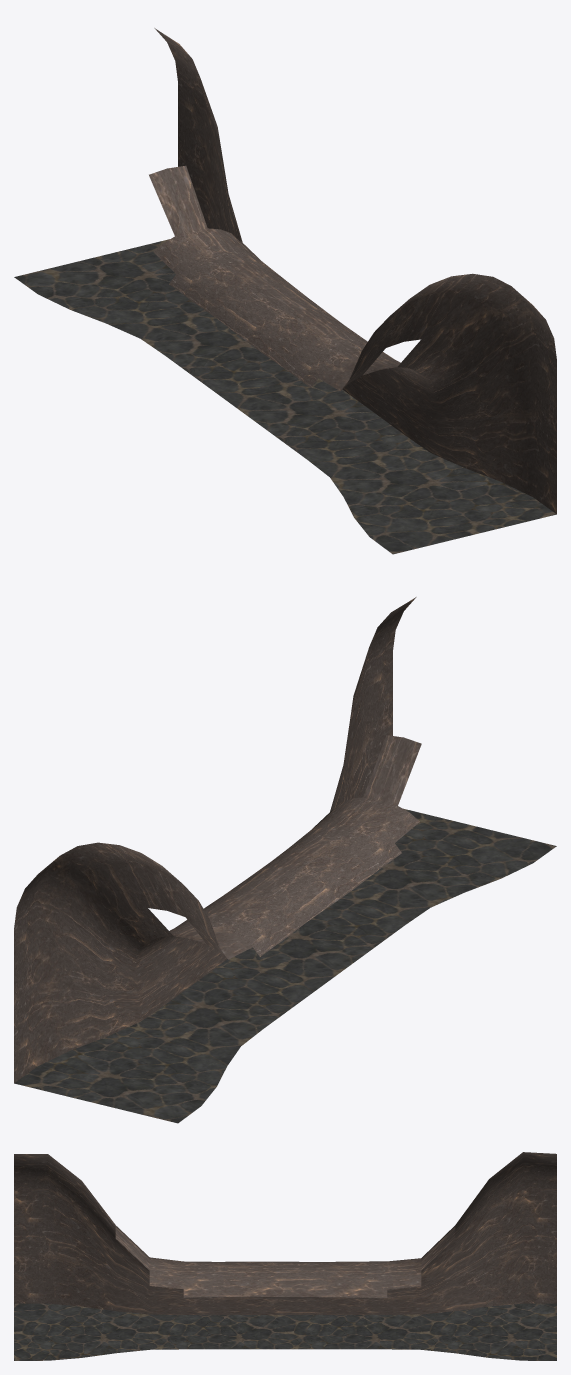
The model's file is hall-crawl.bd499966.gltf.
3 renders of one model, top to bottom at view 1: azimuth 30°, elevation 25°; view 2: azimuth 150°, elevation 25°; view 3: azimuth 270°, elevation 25°, orthographic. The views are drawn at different scales.
Parts seen in each view (by area): view 1: hall-crawl-mesh; view 2: hall-crawl-mesh; view 3: hall-crawl-mesh.
Boxes of the visible parts, x1=… form: hall-crawl-mesh: x1=14, y1=28, x2=556, y2=554; hall-crawl-mesh: x1=14, y1=597, x2=556, y2=1123; hall-crawl-mesh: x1=14, y1=1152, x2=556, y2=1360.
Bounding box in the file's own units: 2.07 × 2.81 × 8.
Materials: 2 (2 with a texture image).
